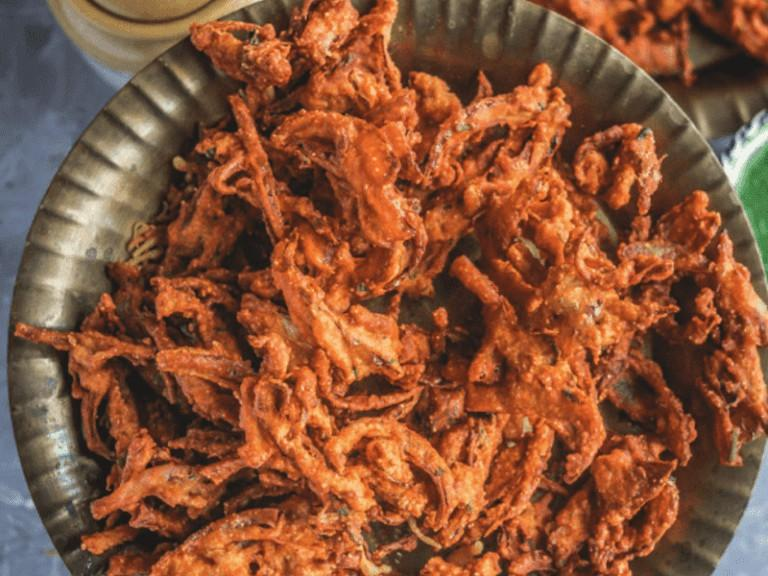OnionPakoda: (13, 0, 768, 576)
